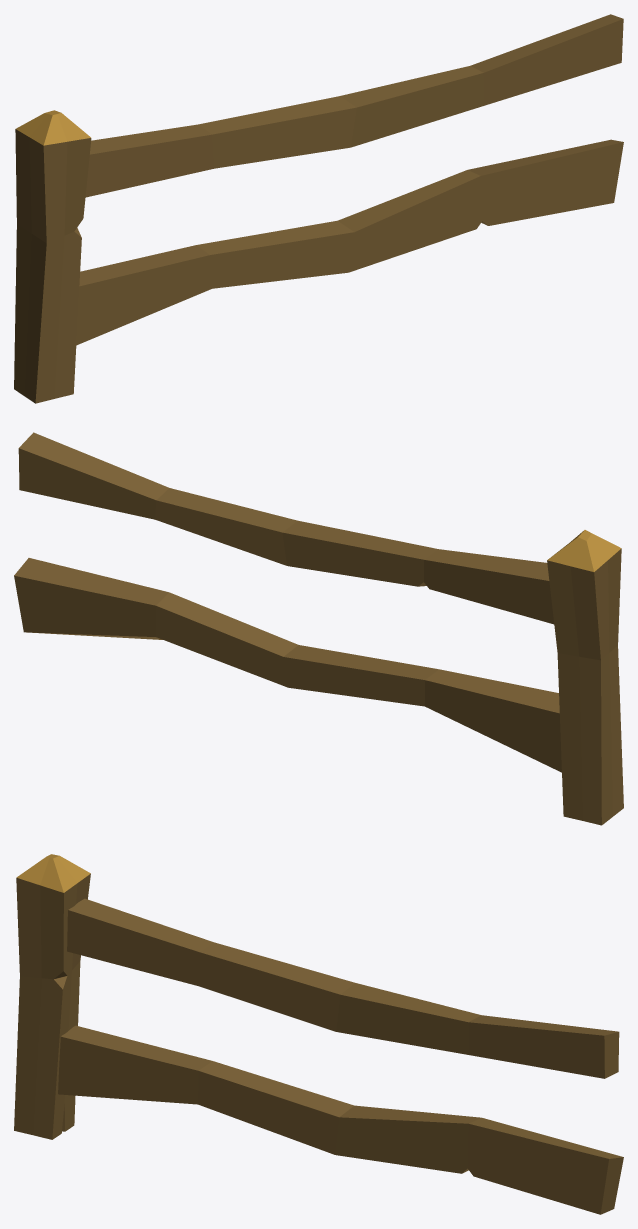
The model's file is fence_modular.glb.
The picture shows the model from 3 angles, top to bottom: view 1: azimuth 30°, elevation 25°; view 2: azimuth 150°, elevation 25°; view 3: azimuth 330°, elevation 25°; orthographic projection.
Visible parts, largest first — view 1: Cube.005, Cube.004, Cube.003; view 2: Cube.005, Cube.004, Cube.003; view 3: Cube.005, Cube.004, Cube.003.
Part boxes in pixels (x1=…): Cube.005: x1=76, y1=139, x2=623, y2=345; Cube.004: x1=85, y1=14, x2=623, y2=197; Cube.003: x1=14, y1=110, x2=91, y2=403; Cube.005: x1=14, y1=558, x2=561, y2=772; Cube.004: x1=18, y1=432, x2=554, y2=624; Cube.003: x1=547, y1=530, x2=623, y2=825; Cube.005: x1=58, y1=1025, x2=623, y2=1214; Cube.004: x1=67, y1=898, x2=619, y2=1078; Cube.003: x1=14, y1=854, x2=90, y2=1139.
Size of the model in its own units: 2.45 by 1.1 by 0.1989.
